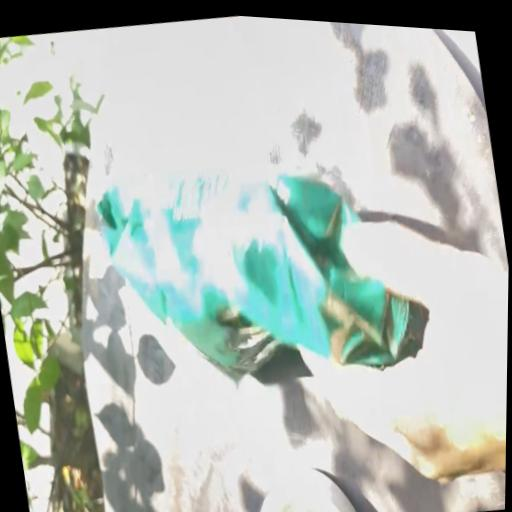cafe_xay: (97, 171, 426, 376)
